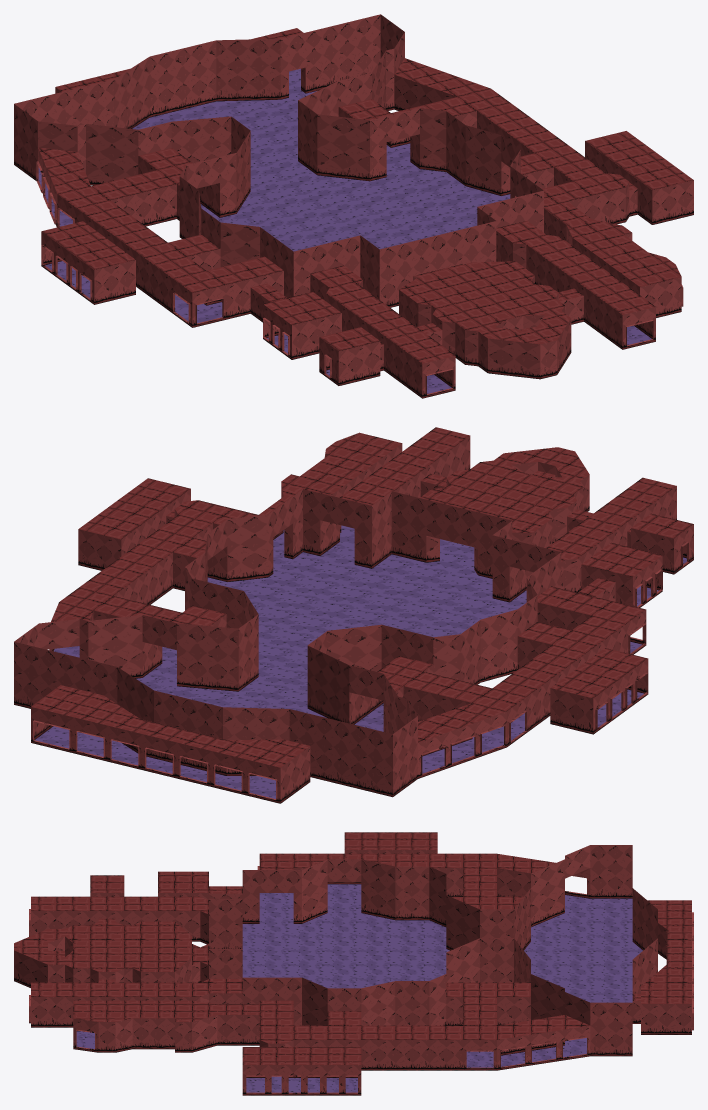
The model's file is level2.glb.
The picture shows the model from 3 angles, top to bottom: view 1: azimuth 30°, elevation 25°; view 2: azimuth 150°, elevation 25°; view 3: azimuth 270°, elevation 25°; orthographic projection. The views are drawn at different scales.
Parts seen in each view (by area): view 1: wall-col, Plane-col.003, floor-col; view 2: wall-col, Plane-col.003, floor-col; view 3: wall-col, Plane-col.003, floor-col.
Boxes of the visible parts, x1=… form: wall-col: x1=14, y1=14, x2=693, y2=398; Plane-col.003: x1=38, y1=28, x2=693, y2=363; floor-col: x1=38, y1=68, x2=651, y2=393; wall-col: x1=14, y1=436, x2=693, y2=803; Plane-col.003: x1=31, y1=427, x2=693, y2=767; floor-col: x1=35, y1=525, x2=686, y2=798; wall-col: x1=14, y1=845, x2=693, y2=1095; Plane-col.003: x1=14, y1=832, x2=691, y2=1064; floor-col: x1=76, y1=884, x2=642, y2=1092.
Size of what is drawn, in the model's own units: 65.48 by 7 by 80.24.
Materials: 3 (3 with a texture image).
